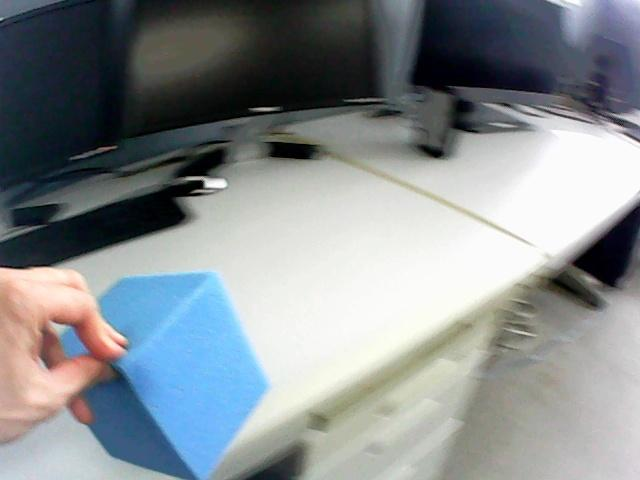blue_block: (86, 273, 267, 479)
